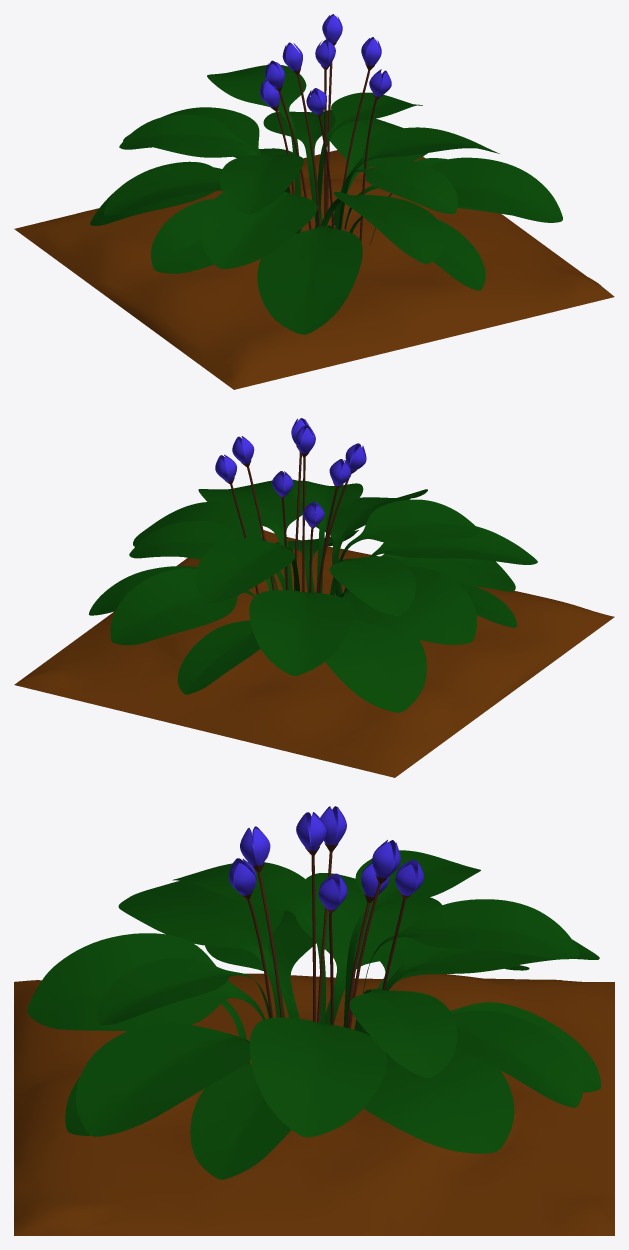
File: violets-p3-leaf.glb
3 renders of one model, top to bottom at view 1: azimuth 30°, elevation 25°; view 2: azimuth 150°, elevation 25°; view 3: azimuth 270°, elevation 25°, orthographic. The views are drawn at different scales.
Parts seen in each view (by area): view 1: 3_nft_out_of_bloom; view 2: 3_nft_out_of_bloom; view 3: 3_nft_out_of_bloom.
Boxes of the visible parts, <box> form: 3_nft_out_of_bloom: <box>14,14,614,389</box>; 3_nft_out_of_bloom: <box>14,418,614,777</box>; 3_nft_out_of_bloom: <box>14,806,614,1235</box>.
Size of the model in its own units: 0.7 by 0.3889 by 0.7.
